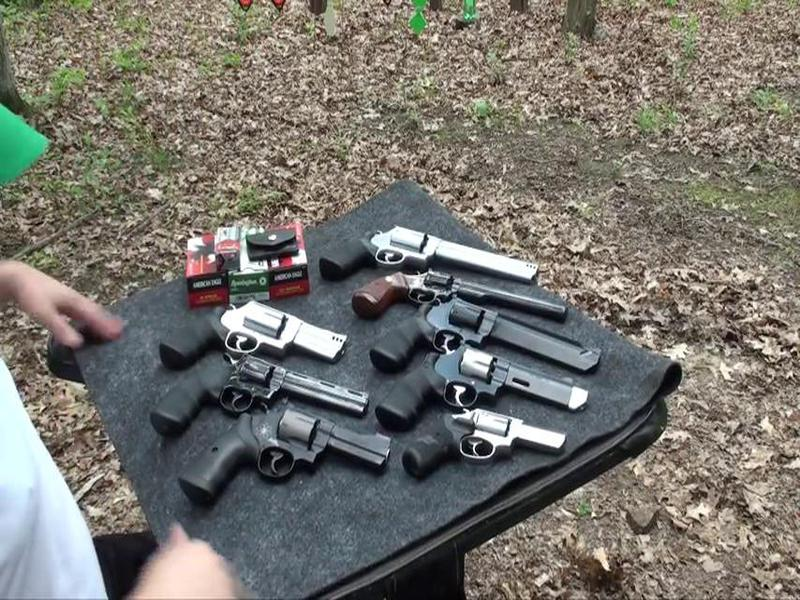Revolver: (169, 396, 394, 510), (149, 355, 374, 429), (154, 296, 344, 376)
